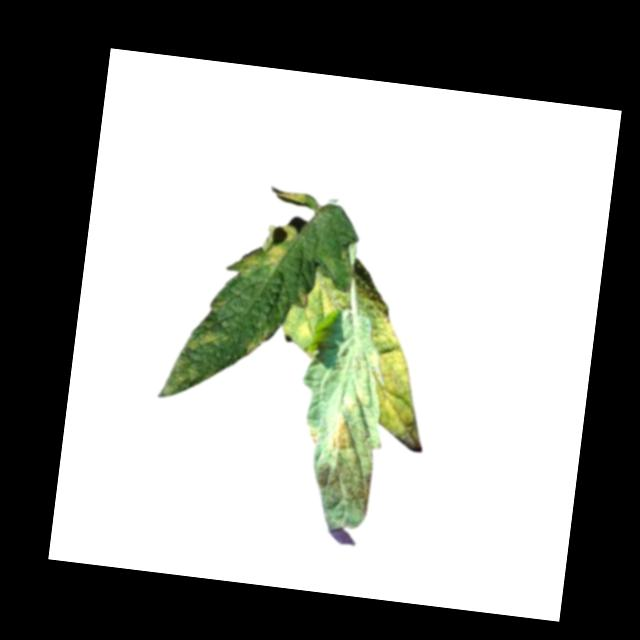Leaf_Mold: (364, 304, 441, 453), (285, 267, 353, 346), (234, 218, 299, 282), (327, 411, 352, 454), (243, 325, 271, 357)
